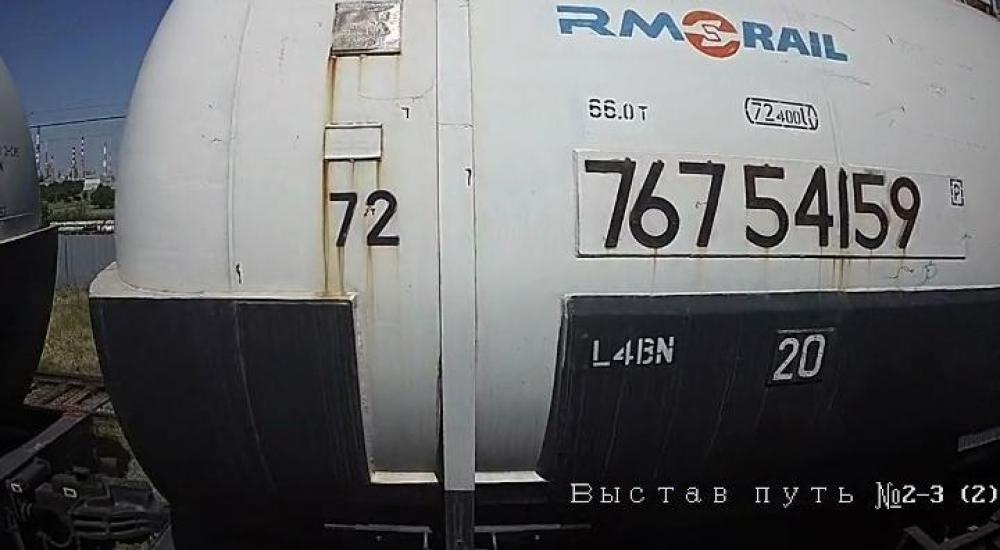Wagon-number: (580, 153, 926, 258)
